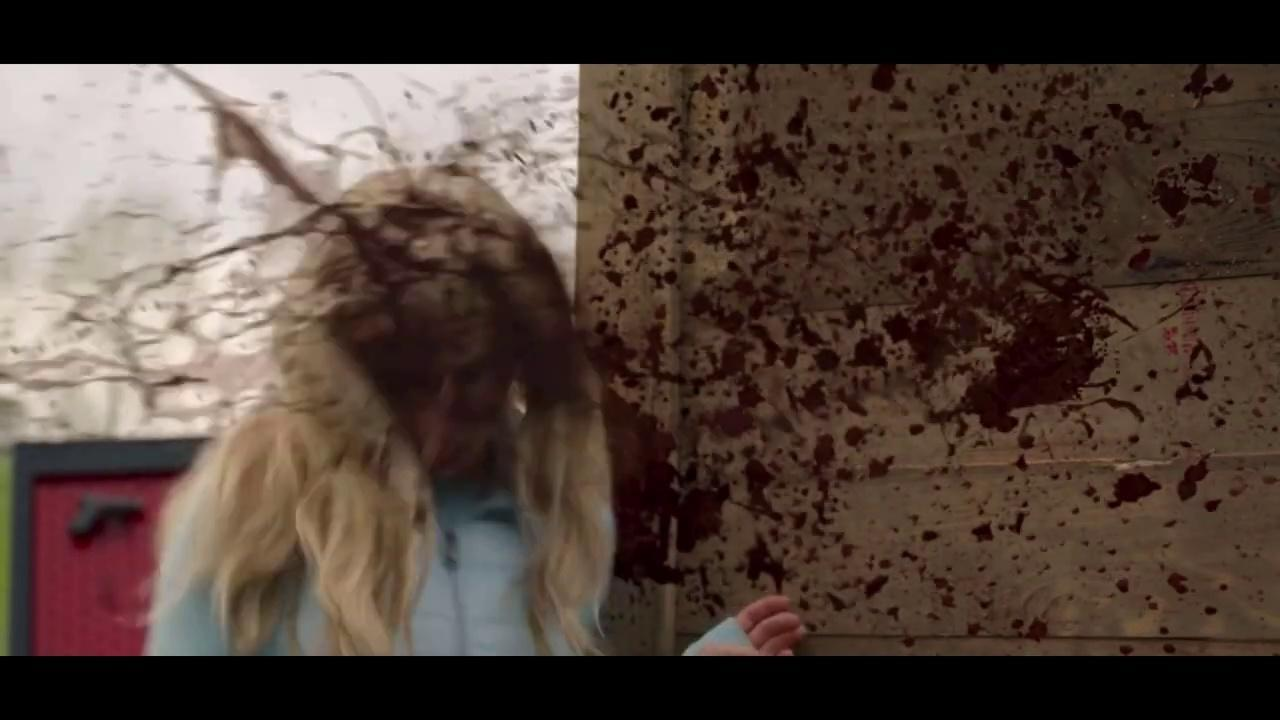Fire: (0, 64, 1280, 654)
